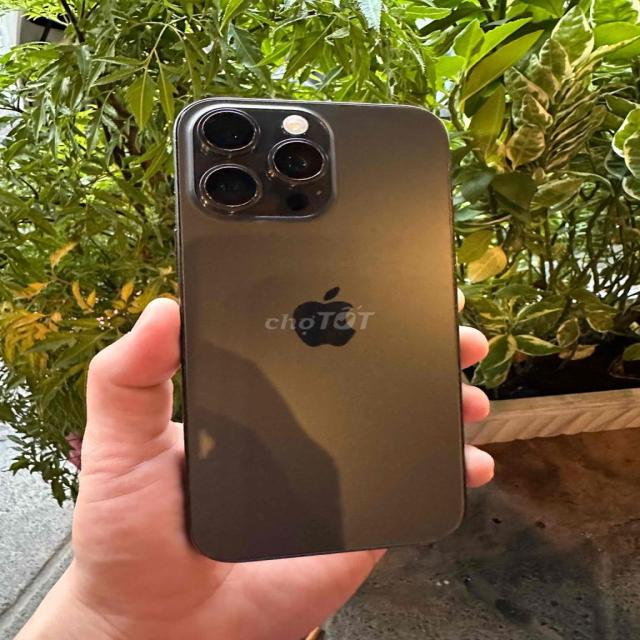gen_16: (174, 96, 464, 562)
